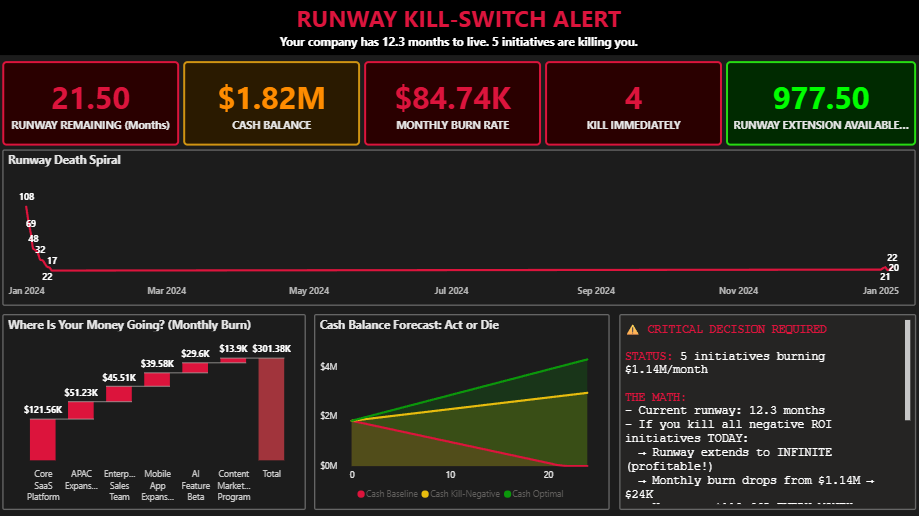

The page's visual inventory and layout, read from the dashboard file:
{"tool":"powerbi","page":{"name":"Executive Runway","canvas":[1280,720],"ordinal":0},"visuals":[{"type":"textbox","box":[0,0,1278.6,77.6],"z":0},{"type":"card","fields":{"Values":["_Measures.Current Runway"]},"box":[4.7,86,245.5,117.3],"z":1000},{"type":"card","title":"months if you act NOW","fields":{"Values":["_Measures.Potential Runway Extension"]},"box":[1010.3,86,264.3,117.3],"z":2000},{"type":"card","fields":{"Values":["_Measures.Cash Balance"]},"box":[256.1,86,245.5,117.3],"z":3000},{"type":"card","fields":{"Values":["_Measures.Monthly Burn"]},"box":[507.5,86,245.5,117.3],"z":4000},{"type":"card","fields":{"Values":["_Measures.Initiatives to Kill"]},"box":[758.9,86,245.5,117.3],"z":5000},{"type":"lineChart","title":"Runway Death Spiral","fields":{"Y":["Sum(powerbi_runway_trend.runway_months)"],"Category":["powerbi_runway_trend.month.Variation.Date Hierarchy.Year","powerbi_runway_trend.month.Variation.Date Hierarchy.Quarter","powerbi_runway_trend.month.Variation.Date Hierarchy.Month","powerbi_runway_trend.month.Variation.Date Hierarchy.Day"]},"box":[4.7,209.6,1269.9,217.4],"z":6000},{"type":"waterfallChart","title":"Where Is Your Money Going? (Monthly Burn)","fields":{"Category":["powerbi_initiative_scorecard.initiative_name"],"Y":["Sum(powerbi_initiative_scorecard.monthly_burn)"]},"box":[4.7,437.9,422.2,272.1],"z":7000},{"type":"areaChart","title":"Cash Balance Forecast: Act or Die","fields":{"Category":["powerbi_runway_projection.months_from_now"],"Y":["Sum(powerbi_runway_projection.cash_baseline)","Sum(powerbi_runway_projection.cash_kill_negative)","Sum(powerbi_runway_projection.cash_optimal)"]},"box":[437.9,437.9,411.3,272.1],"z":8000},{"type":"textbox","box":[861.7,437.9,412.9,272.1],"z":9000}]}

Visuals, with their boxes in screenshot pixels (x1, y1, x2, y2), scaled from the page's 1280x720 canvas onto the 919x516 screenshot:
textbox: left=0, top=0, right=918, bottom=56
card - _Measures.Current Runway: left=3, top=62, right=180, bottom=146
"months if you act NOW" card: left=725, top=62, right=915, bottom=146
card - _Measures.Cash Balance: left=184, top=62, right=360, bottom=146
card - _Measures.Monthly Burn: left=364, top=62, right=541, bottom=146
card - _Measures.Initiatives to Kill: left=545, top=62, right=721, bottom=146
"Runway Death Spiral" lineChart: left=3, top=150, right=915, bottom=306
"Where Is Your Money Going? (Monthly Burn)" waterfallChart: left=3, top=314, right=307, bottom=509
"Cash Balance Forecast: Act or Die" areaChart: left=314, top=314, right=610, bottom=509
textbox: left=619, top=314, right=915, bottom=509
